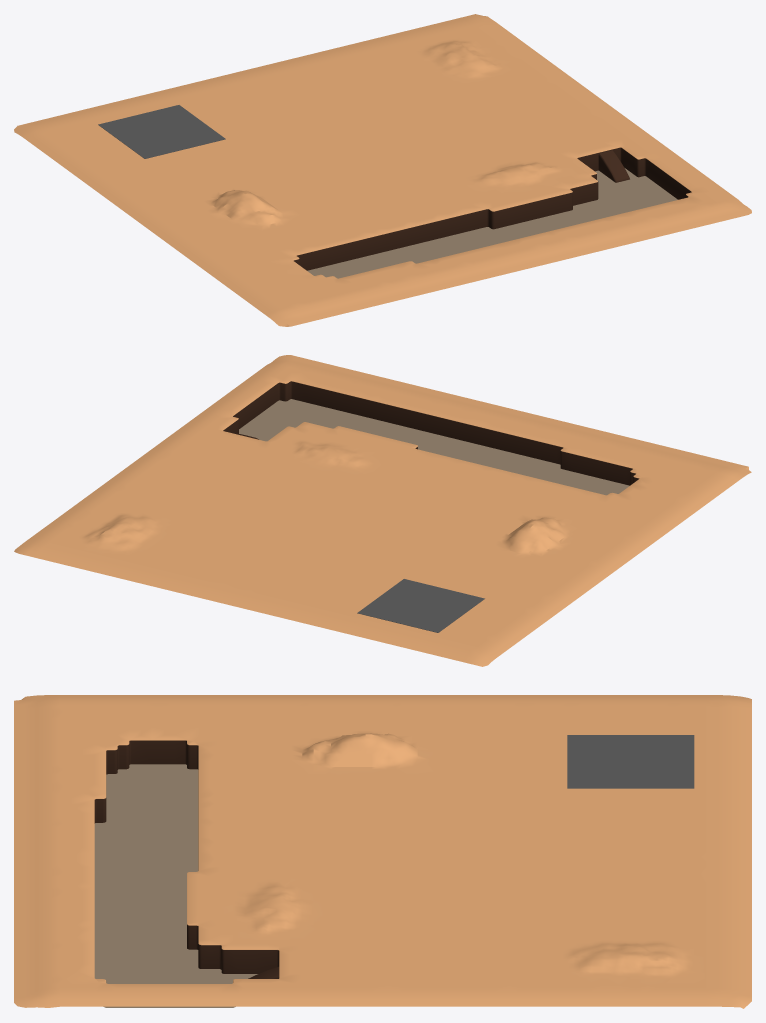
Rendered from cenario 3 B.fbx.
The picture shows the model from 3 angles, top to bottom: view 1: azimuth 30°, elevation 25°; view 2: azimuth 150°, elevation 25°; view 3: azimuth 270°, elevation 25°; orthographic projection. The views are drawn at different scales.
Parts seen in each view (by area): view 1: Plane.002; view 2: Plane.002; view 3: Plane.002.
Part boxes in pixels (x1,y1,x2,y2): Plane.002: (14,14,751,326); Plane.002: (14,355,751,666); Plane.002: (14,695,751,1008).
Bounding box in the file's own units: 110 × 7.05 × 110.
